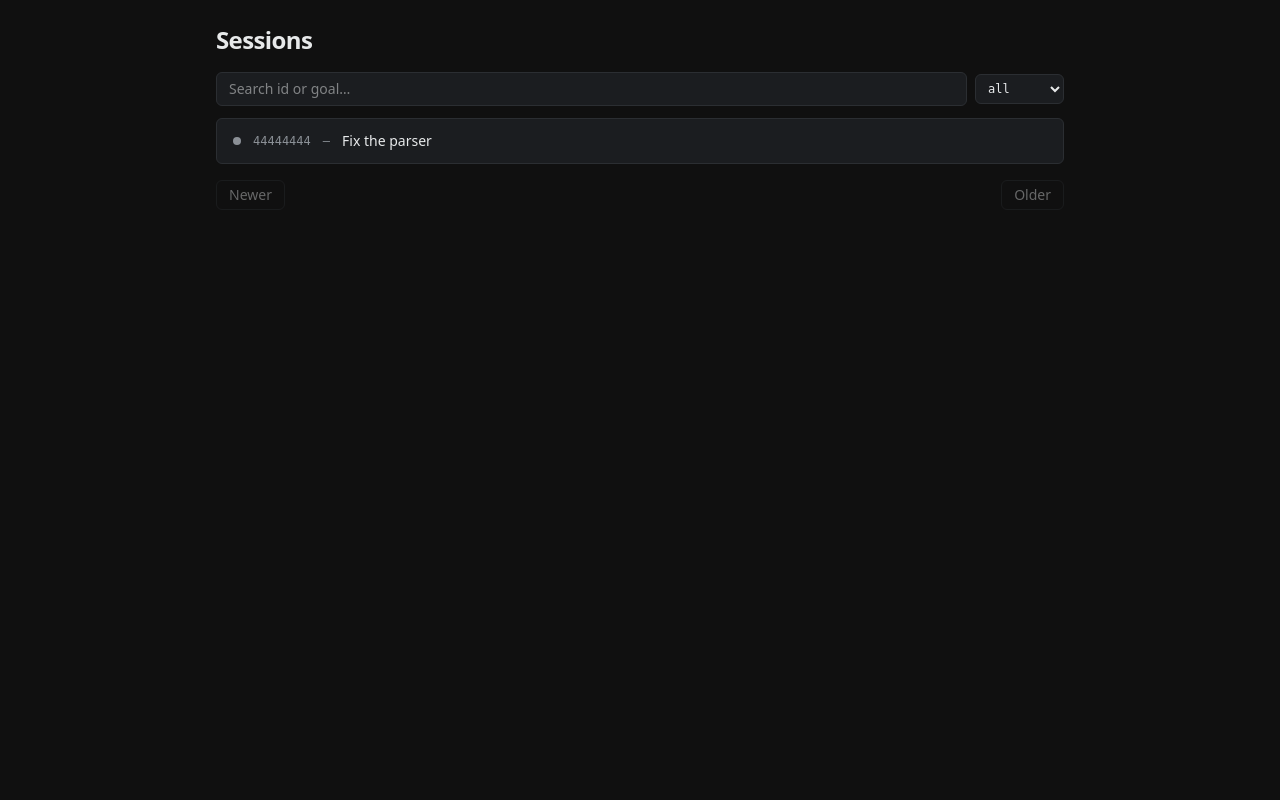
Test case: router › opens a session from the list without leaving the SPA
This screenshot has width=1280, height=800.
Click the link with test id "session-row-link" at (332, 140), box [233,131,432,150]
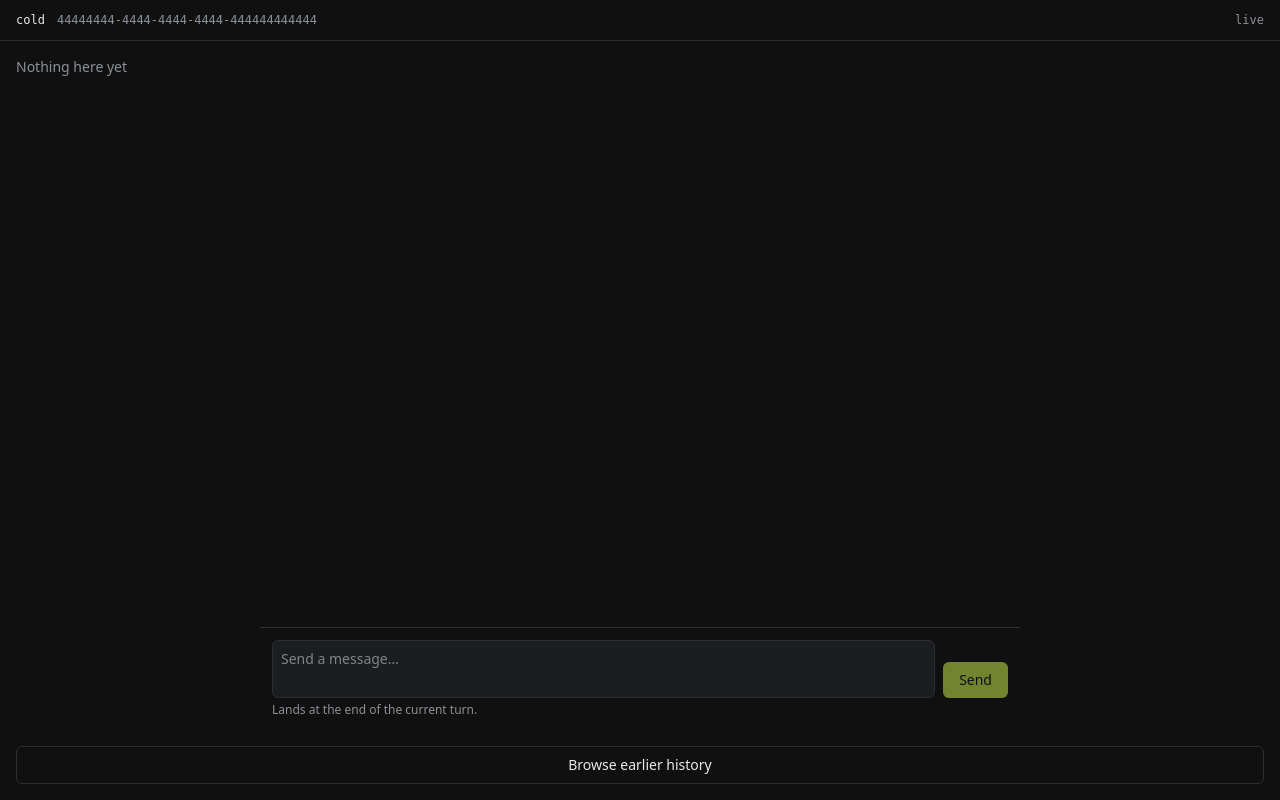
Expected: the text "44444444-4444-4444-4444-444444444444" is shown, [57,12,317,28]
